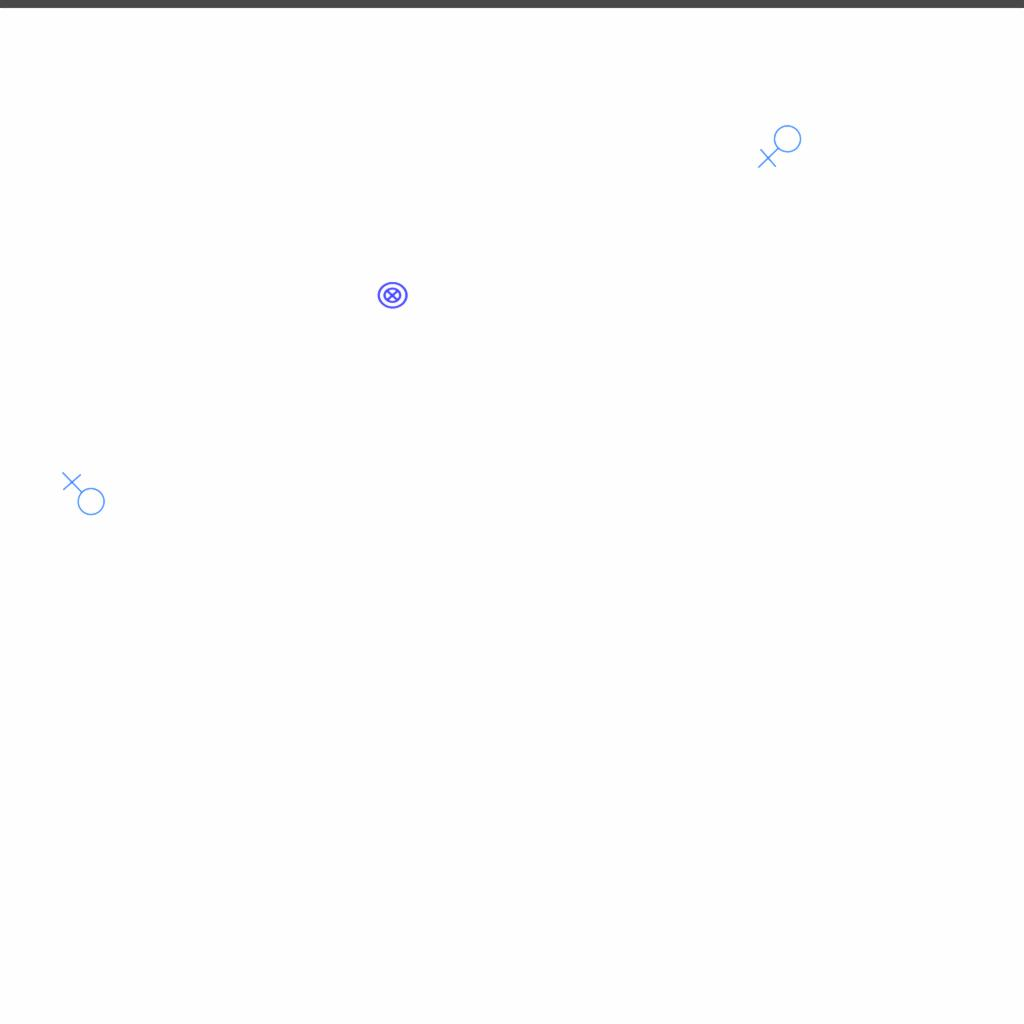Elektroanschluss_allgemein_230V_Geraeteanschlussdose_230V: (59, 471, 106, 520), (757, 124, 806, 171)
Taster_beleuchtet: (376, 279, 409, 312)
